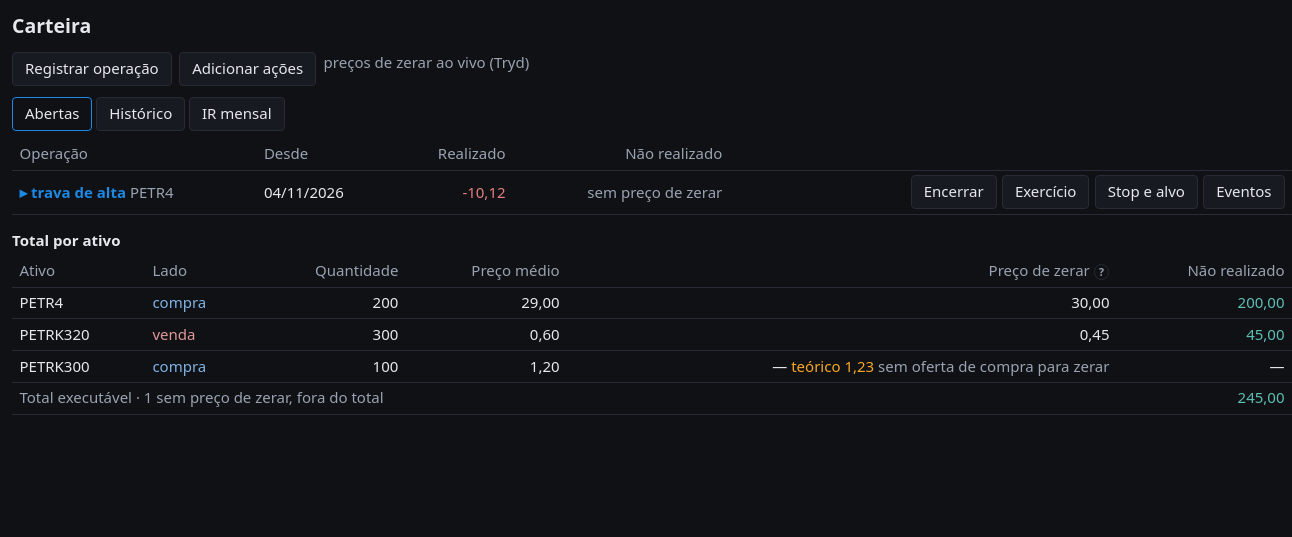
Test: perna sem preço de zerar mostra o teórico rotulado e a operação fica sem total executável
Click the button "▸ trava de alta": x=73, y=192 [20,182,126,203]
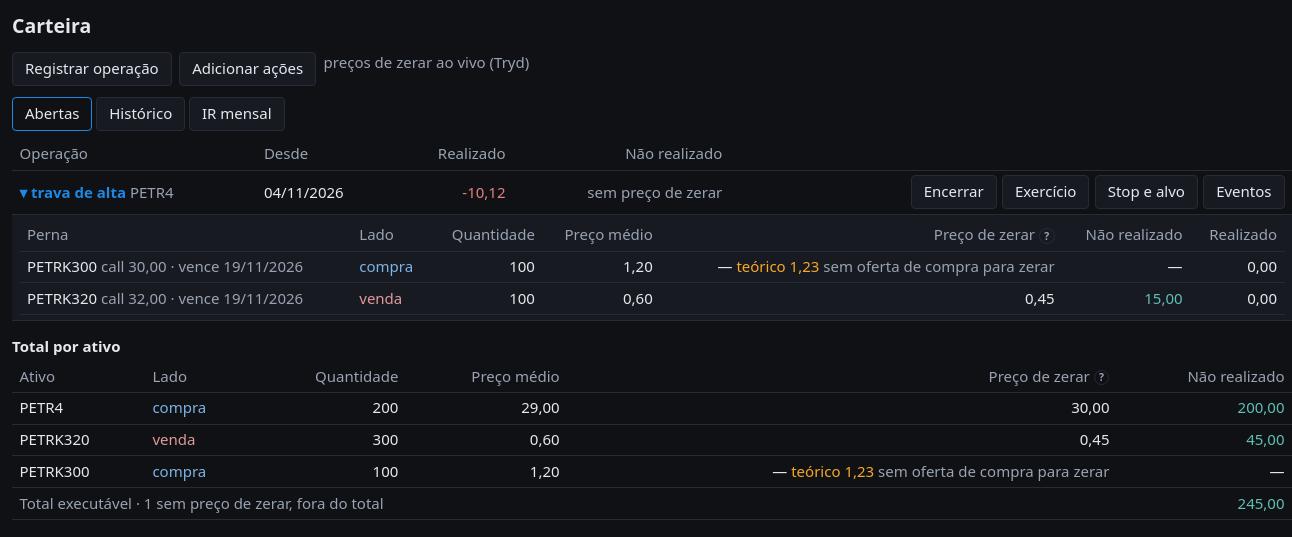
Now the text "PETRK300" shows "teórico 1,23", box [20,251,1284,283]
Now the text "PETRK300" shows "sem oferta de compra para zerar", box [823,256,1055,276]
Now the text "PETRK320" shows "0,45", box [1025,288,1055,308]
